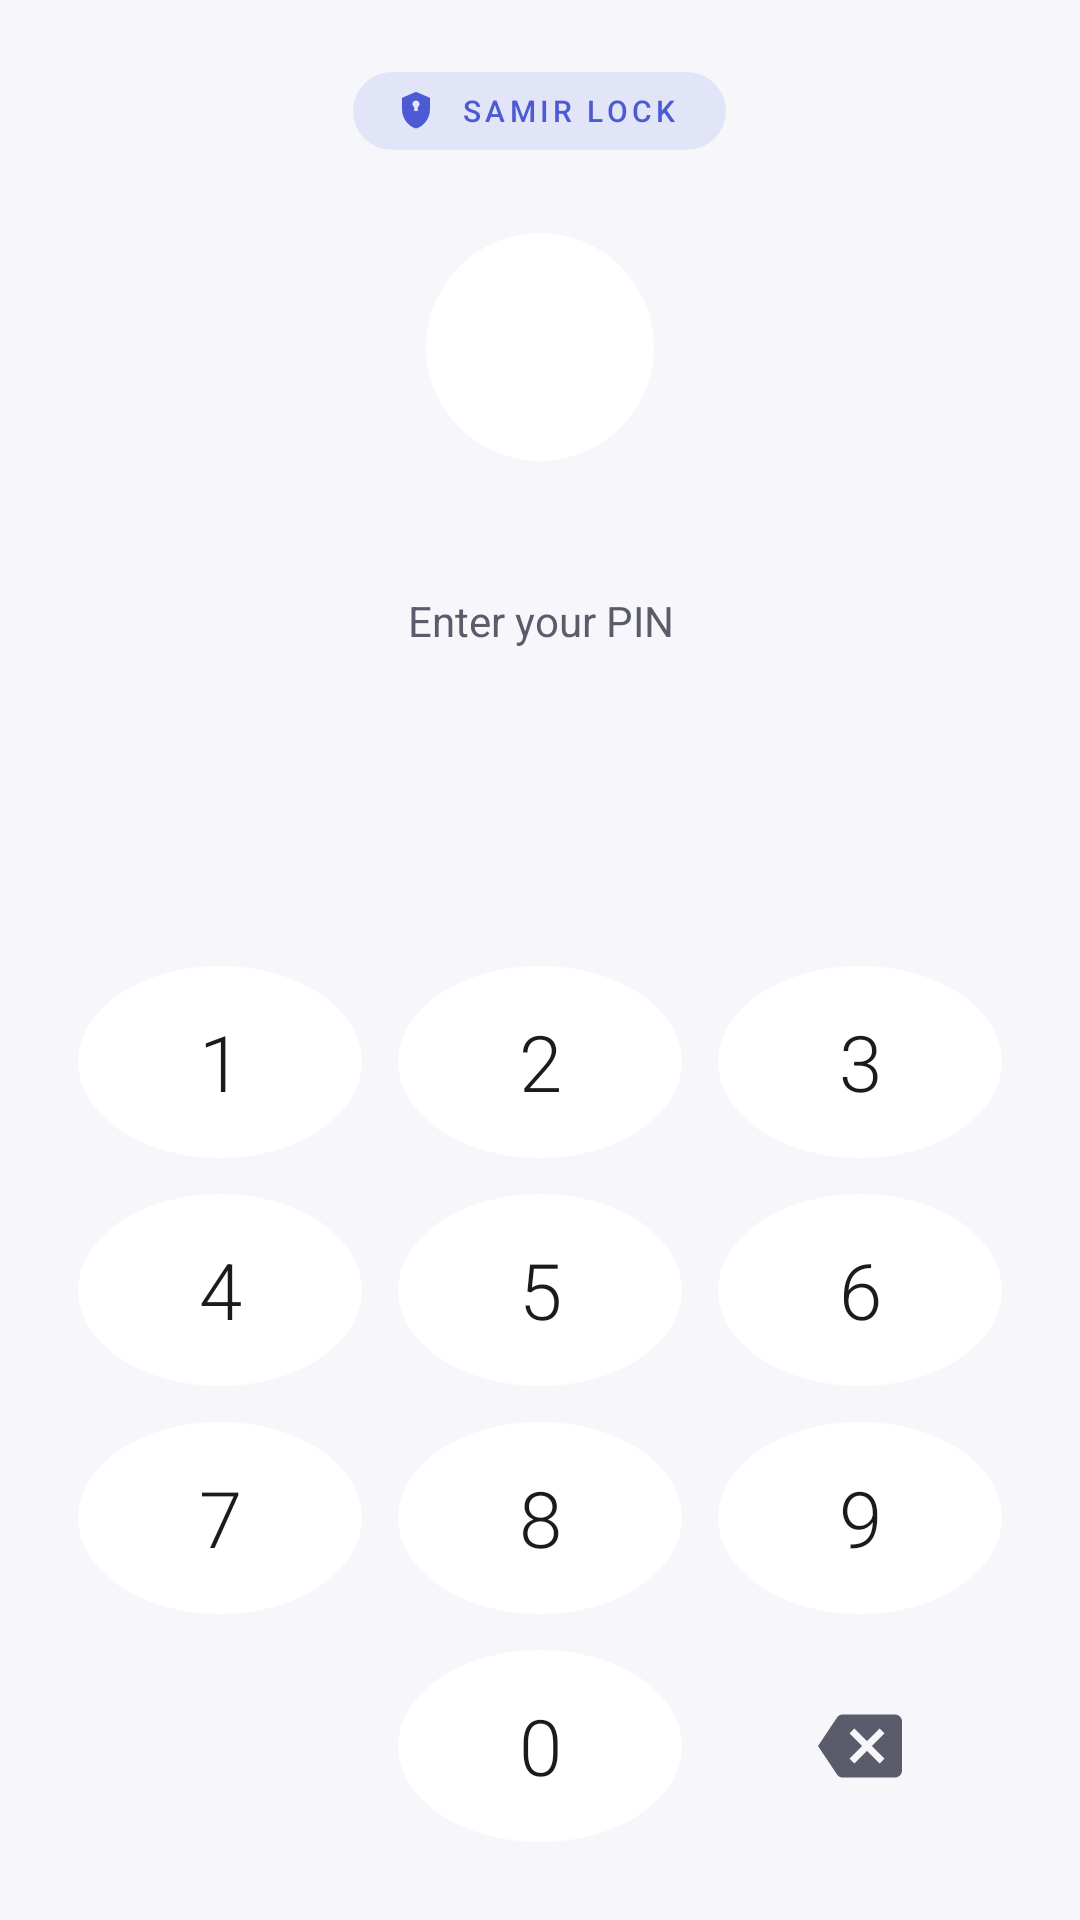

Locate icon controls on the screen. Image size 1080*1920, boxes as (x1, y1, x2, y2).
Delete last digit: (818, 1714, 902, 1778)
guard shield: (402, 92, 430, 129)
